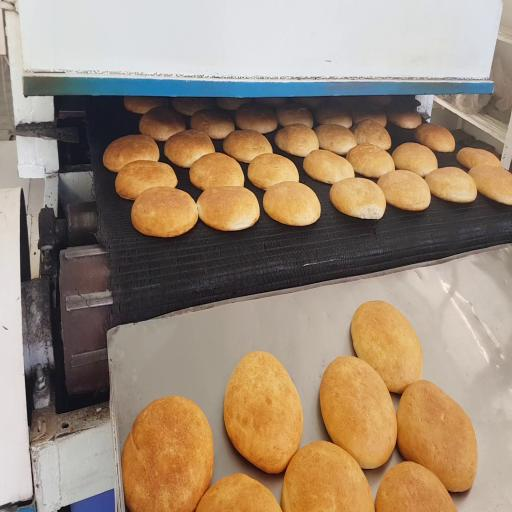bread: (122, 397, 213, 511), (224, 352, 302, 473), (397, 381, 477, 491), (320, 357, 396, 468), (351, 301, 422, 393), (281, 441, 374, 511), (376, 462, 456, 511), (132, 187, 197, 237), (197, 474, 281, 511), (197, 186, 259, 231), (263, 182, 321, 226), (116, 161, 177, 200), (330, 178, 386, 219), (378, 170, 430, 210), (103, 135, 159, 172), (190, 153, 244, 190), (164, 130, 215, 167), (248, 154, 299, 190), (425, 167, 477, 202), (303, 150, 354, 183), (346, 144, 395, 178), (469, 166, 511, 205), (223, 130, 272, 163), (139, 107, 185, 141), (392, 143, 438, 177), (275, 124, 318, 156), (191, 109, 234, 139), (315, 125, 356, 155), (235, 104, 277, 133), (352, 120, 391, 150), (415, 124, 455, 152), (457, 147, 501, 169), (315, 104, 352, 128), (276, 104, 313, 127), (352, 105, 387, 127), (124, 97, 167, 114), (171, 98, 211, 116), (387, 111, 422, 129), (216, 98, 251, 110), (292, 97, 324, 109), (255, 98, 287, 108), (367, 96, 393, 106)
